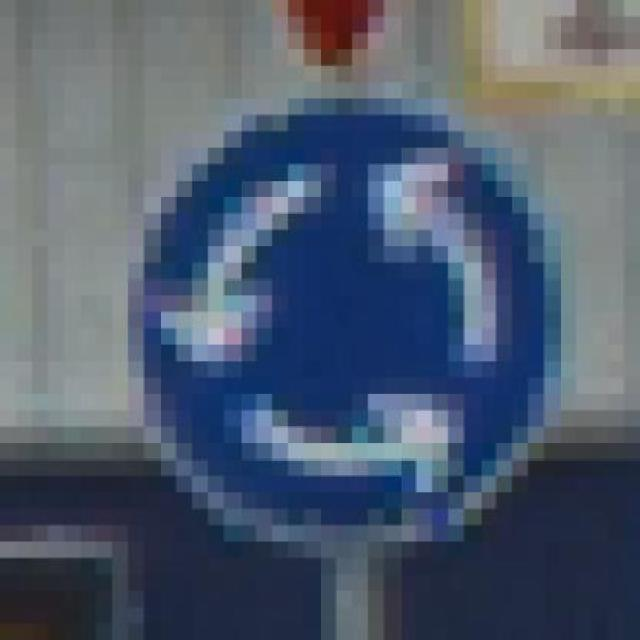Round-About: (96, 82, 576, 575)
